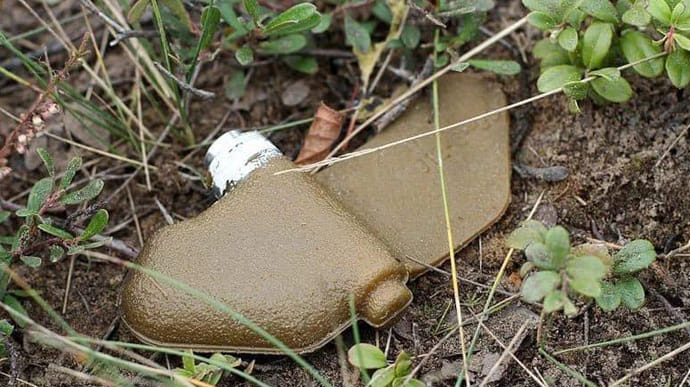butterfly: (102, 64, 530, 378)
